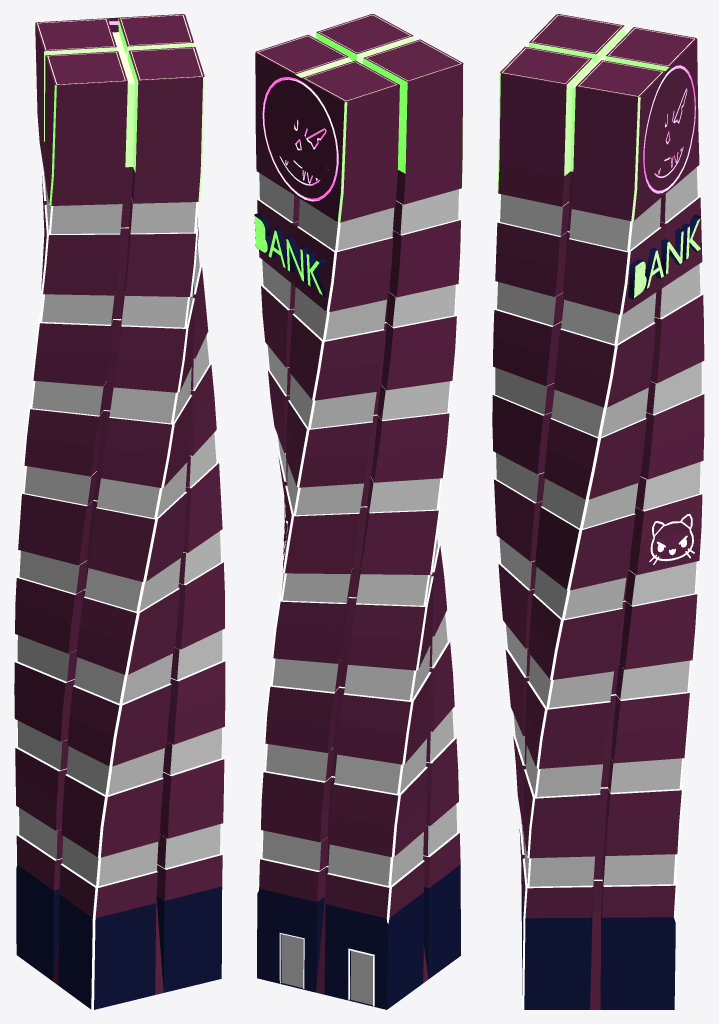
Rendered from BANK3.fbx.
The picture shows the model from 3 angles, left to right: view 1: azimuth 30°, elevation 25°; view 2: azimuth 150°, elevation 25°; view 3: azimuth 270°, elevation 25°; orthographic projection.
Visible parts, largest first — view 1: building1incity.002; view 2: building1incity.002; view 3: building1incity.002.
Boxes of the visible parts, x1,y1,x2,y2 form: building1incity.002: (14,14,225,1009); building1incity.002: (254,14,463,1009); building1incity.002: (492,14,704,1009).
Size of the model in its own units: 84.34 by 404 by 84.34.
